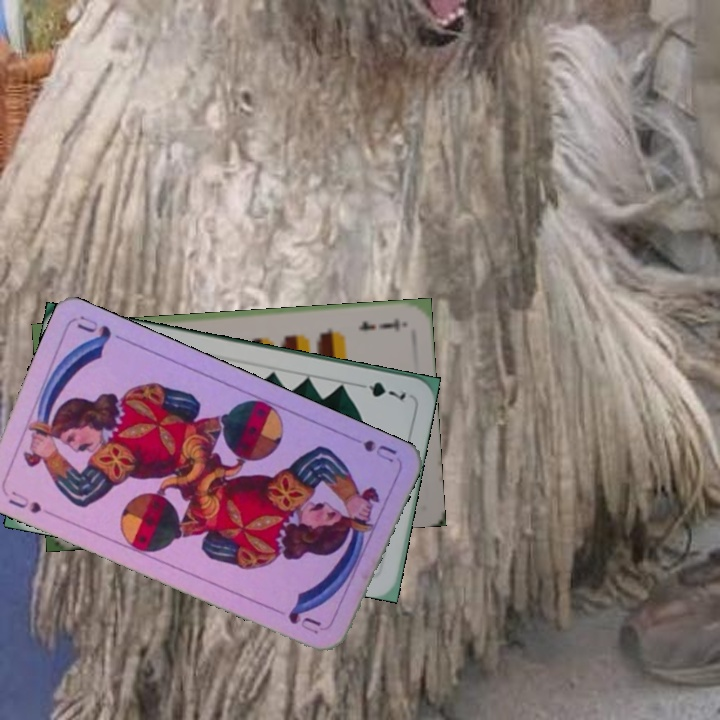E7: (354, 314, 402, 334)
G7: (352, 377, 409, 403)
SU: (342, 432, 399, 466), (4, 486, 57, 519)
